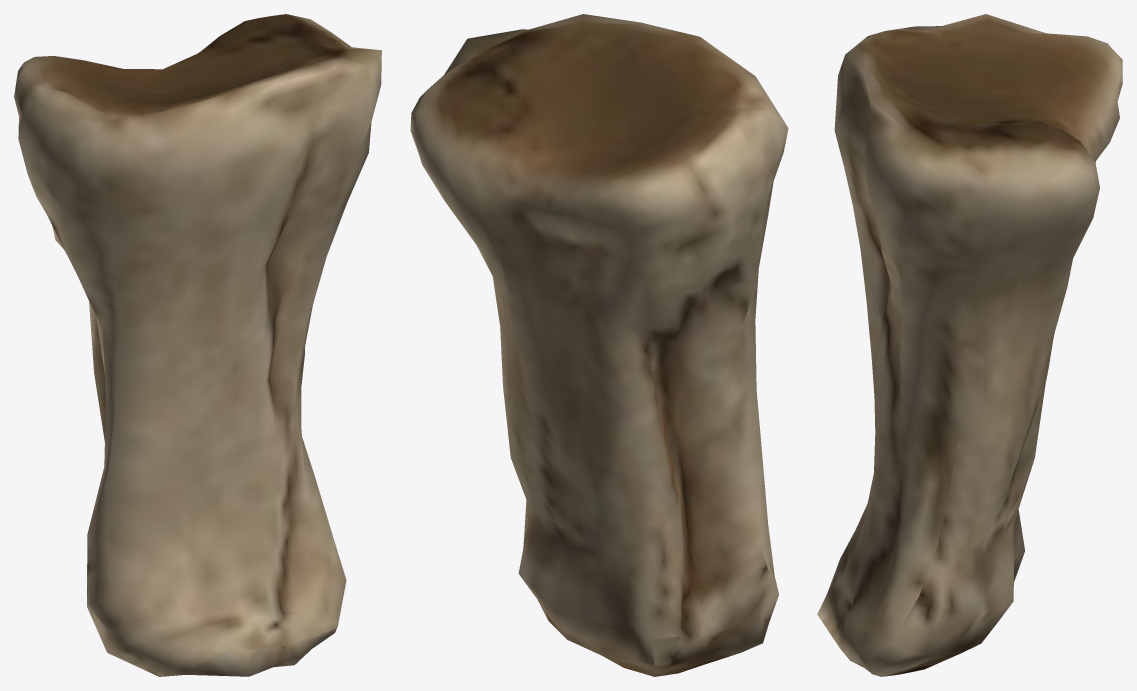
File: Long_Pastern.glb
3 views of the same model, side by side, from view 1: azimuth 30°, elevation 25°; view 2: azimuth 150°, elevation 25°; view 3: azimuth 270°, elevation 25° (orthographic). The views are drawn at different scales.
Visible parts, largest first — view 1: R_Bck_Long_Pastern; view 2: R_Bck_Long_Pastern; view 3: R_Bck_Long_Pastern.
Part boxes in pixels (x1,y1,x2,y2): R_Bck_Long_Pastern: (14,14,381,676); R_Bck_Long_Pastern: (410,14,788,676); R_Bck_Long_Pastern: (817,14,1122,676).
Bounding box in the file's own units: 0.0537 × 0.0972 × 0.0454.
Materials: 1 (1 with a texture image).
